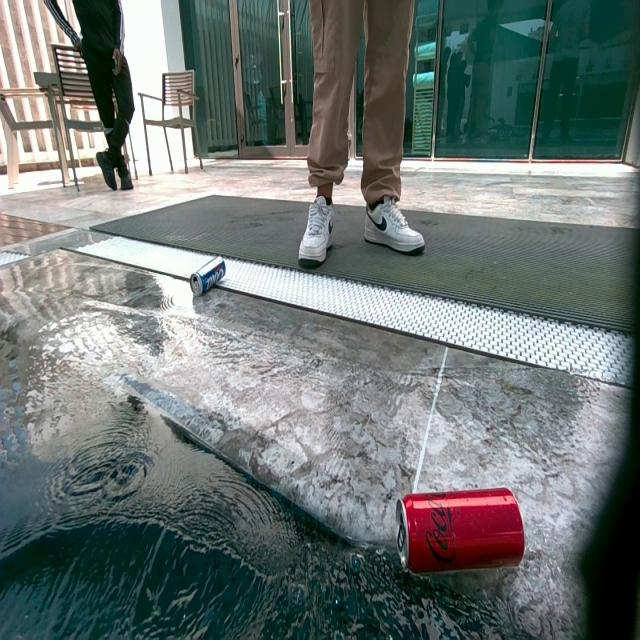Cans: (393, 492, 521, 580), (186, 256, 228, 300)
